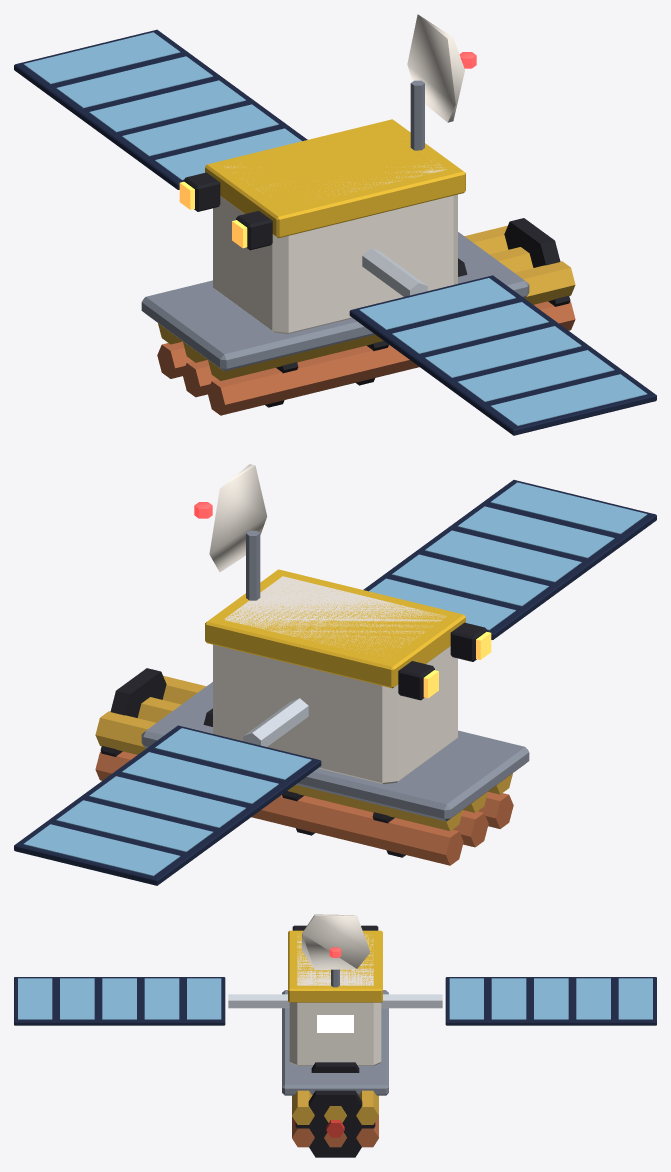
File: kinetic_sat.glb
3 views of the same model, one above another, from view 1: azimuth 30°, elevation 25°; view 2: azimuth 150°, elevation 25°; view 3: azimuth 270°, elevation 25° (orthographic). The views are drawn at different scales.
Visible parts, largest first — view 1: kinetic_sat; view 2: kinetic_sat; view 3: kinetic_sat.
Boxes of the visible parts, box(x1,y1,x2,y2) form: kinetic_sat: box(14, 14, 656, 435); kinetic_sat: box(14, 464, 656, 885); kinetic_sat: box(14, 914, 656, 1157).
Bounding box in the file's own units: 18 × 15.1 × 42.
Materials: 1 (1 with a texture image).
